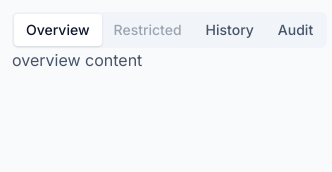
it: Tabs › selects a tab by pointer and maintains one tab stop
Click the tab "History". click: (230,30)
box: [194,14,266,46]
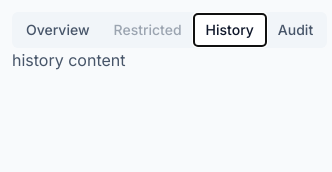
Now the tab "History" is selected, box [194,14,266,46]
Now the tab "History" has attribute tabindex="0", box [194,14,266,46]
Now the tab "Overview" has attribute tabindex="-1", box [14,14,102,46]
